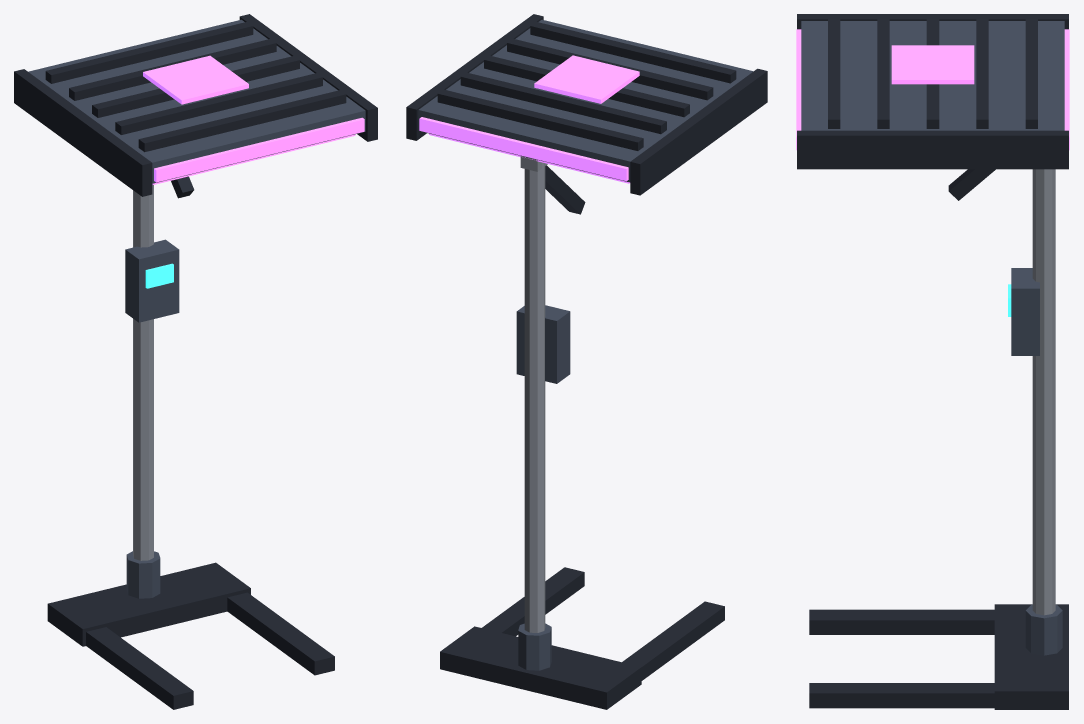
The model's file is grow_lamp.glb.
3 renders of one model, left to right at view 1: azimuth 30°, elevation 25°; view 2: azimuth 150°, elevation 25°; view 3: azimuth 270°, elevation 25°, orthographic. The views are drawn at different scales.
Parts seen in each view (by area): view 1: grow_lamp; view 2: grow_lamp; view 3: grow_lamp.
Part boxes in pixels (x1=…): grow_lamp: x1=14, y1=14, x2=377, y2=709; grow_lamp: x1=406, y1=14, x2=767, y2=709; grow_lamp: x1=796, y1=14, x2=1069, y2=709.
Bounding box in the file's own units: 0.7 × 1.62 × 0.664.
